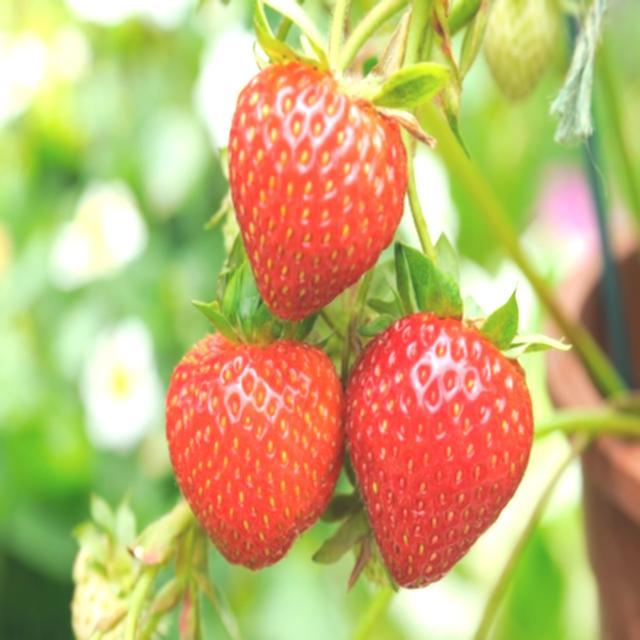strawberry: (345, 312, 534, 587), (228, 61, 408, 319), (166, 332, 344, 569)
